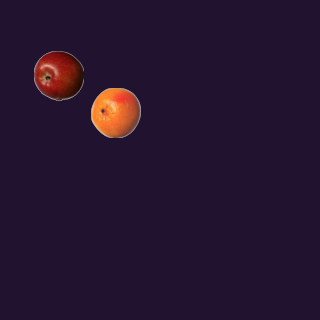Apple Braeburn: (33, 50, 83, 100)
Grapefruit Pink: (90, 87, 140, 137)
